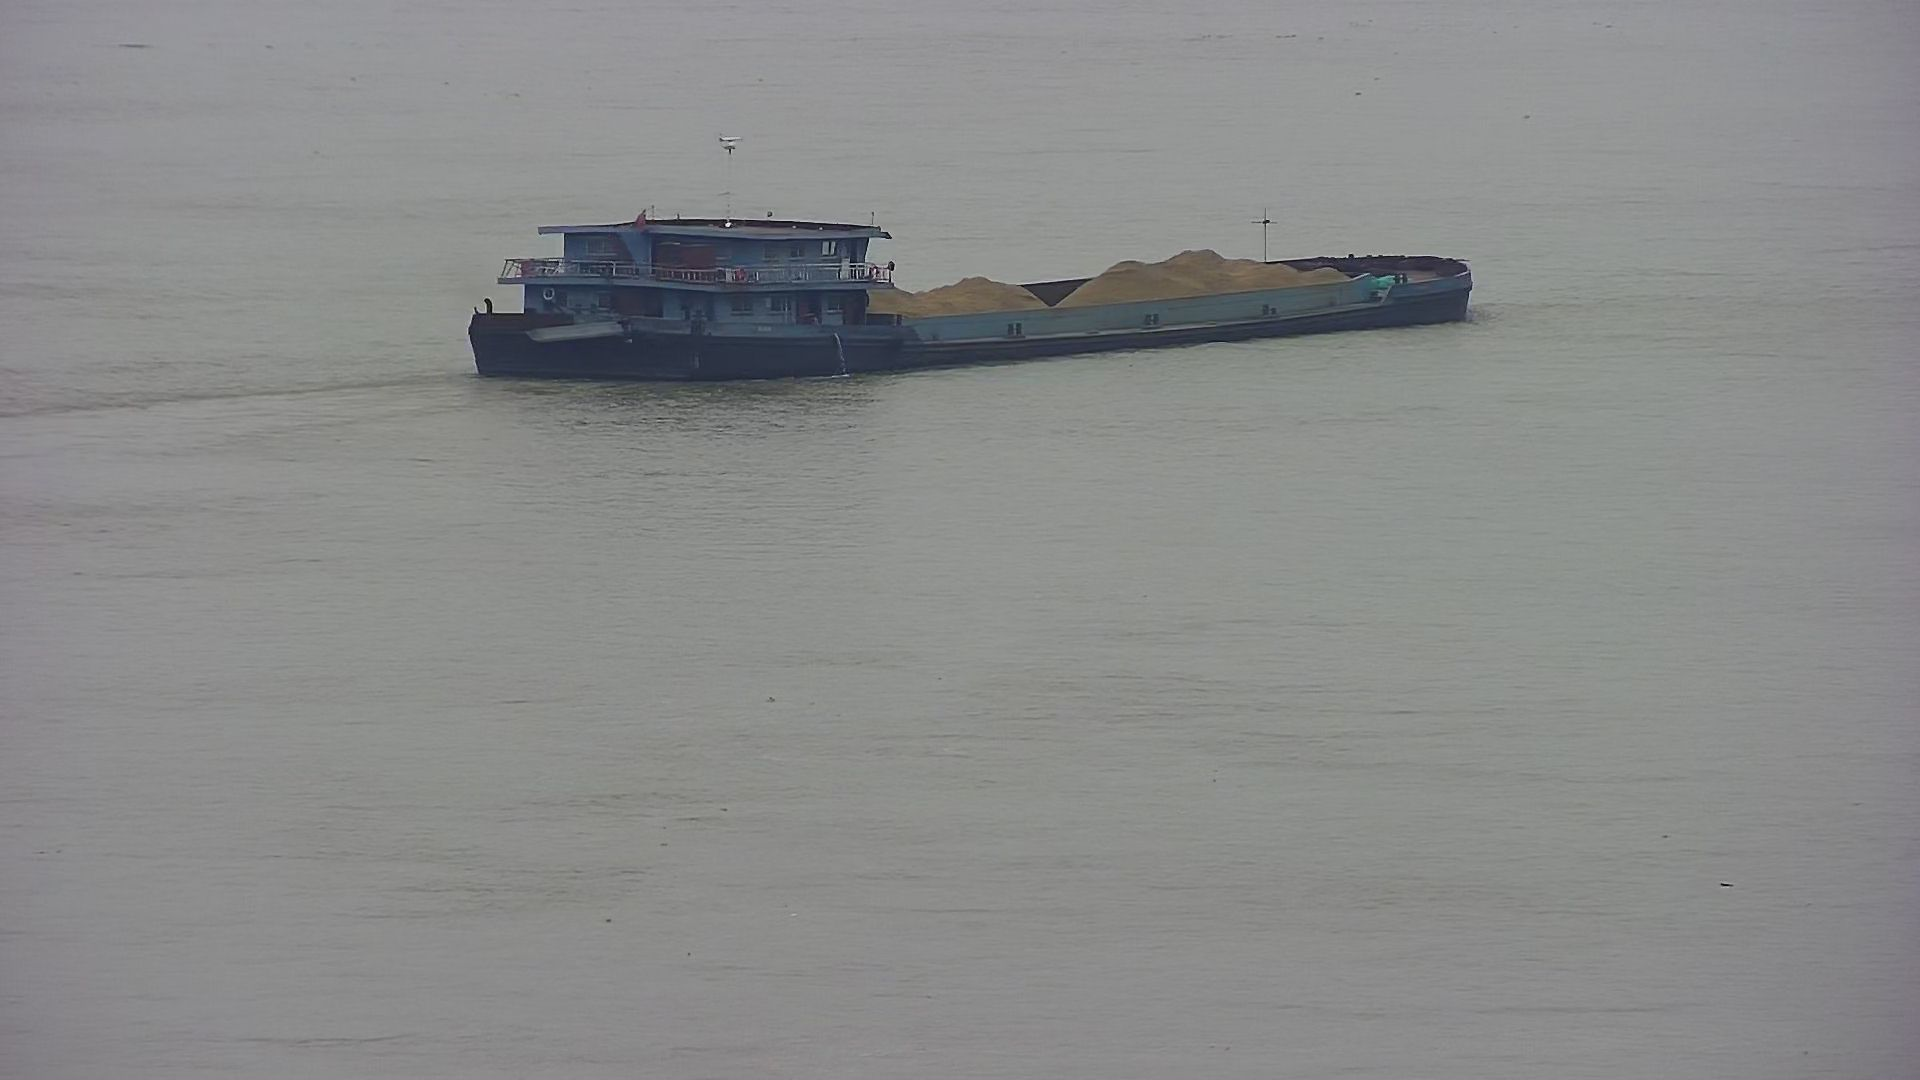ship: (422, 154, 1480, 382)
